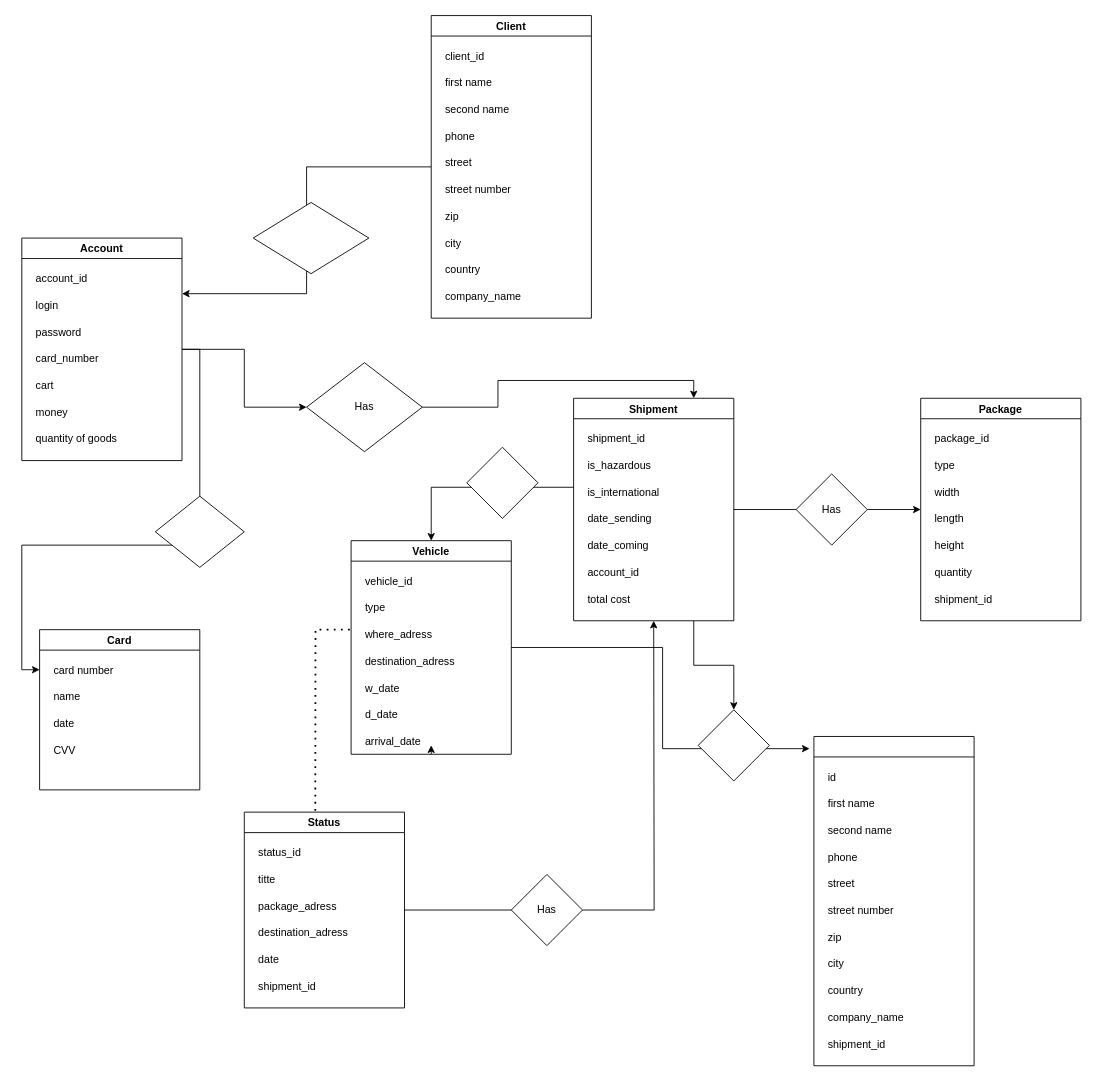
Image size: 1096x1081. Some labels were removed from this diagram. Here are the shapes that lost their labels. From the top down, the box of each, then its label:
(252, 202, 369, 274): create
(466, 446, 538, 518): deliver
(154, 495, 244, 567): link
(697, 709, 769, 781): Comes
(813, 736, 974, 1066): Place of arrival
